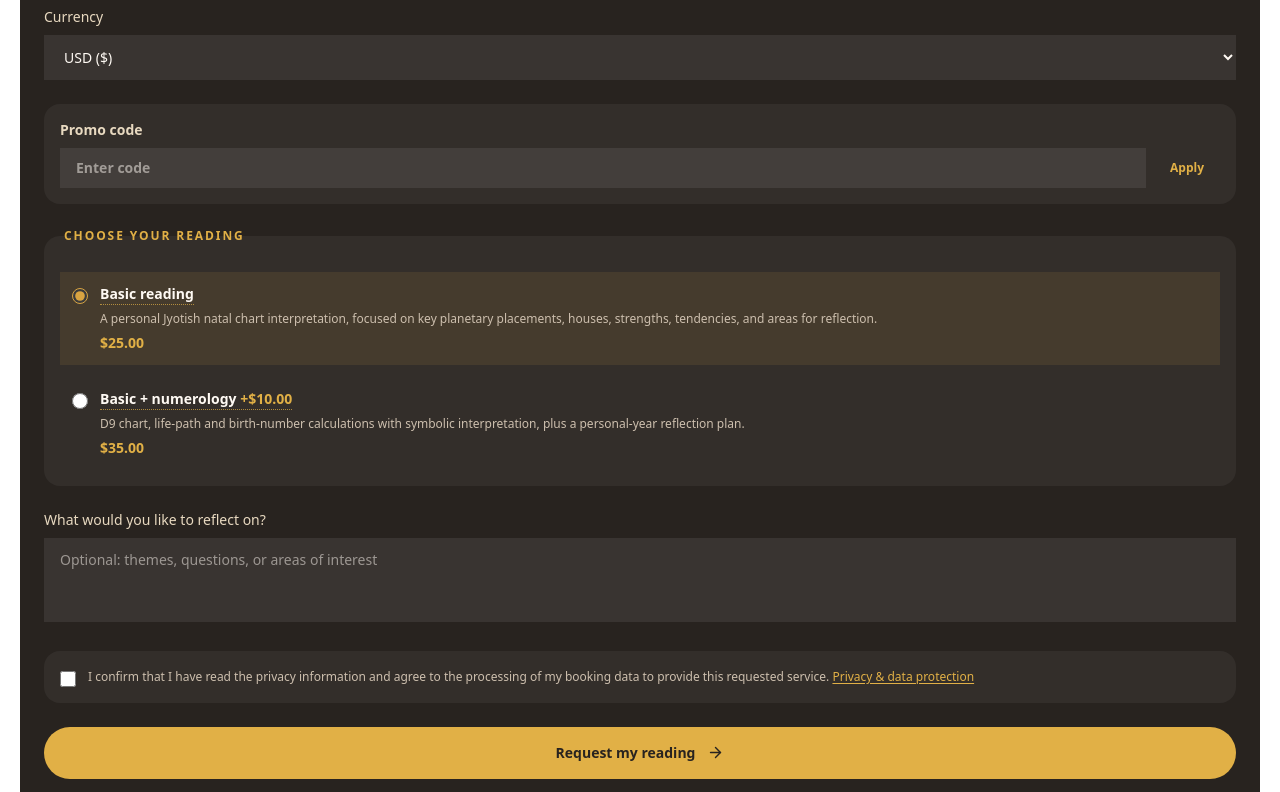
Test: Home booking payment UX › shows a detailed checkout price breakdown and keeps the total mathematically consistent
(page scrolled)
What coordinates should you click on to do the following:
click the radio button labelled "Basic + numerology"
I would click on:
 (80, 401)
Its box is [72, 393, 88, 409].
(page scrolled)
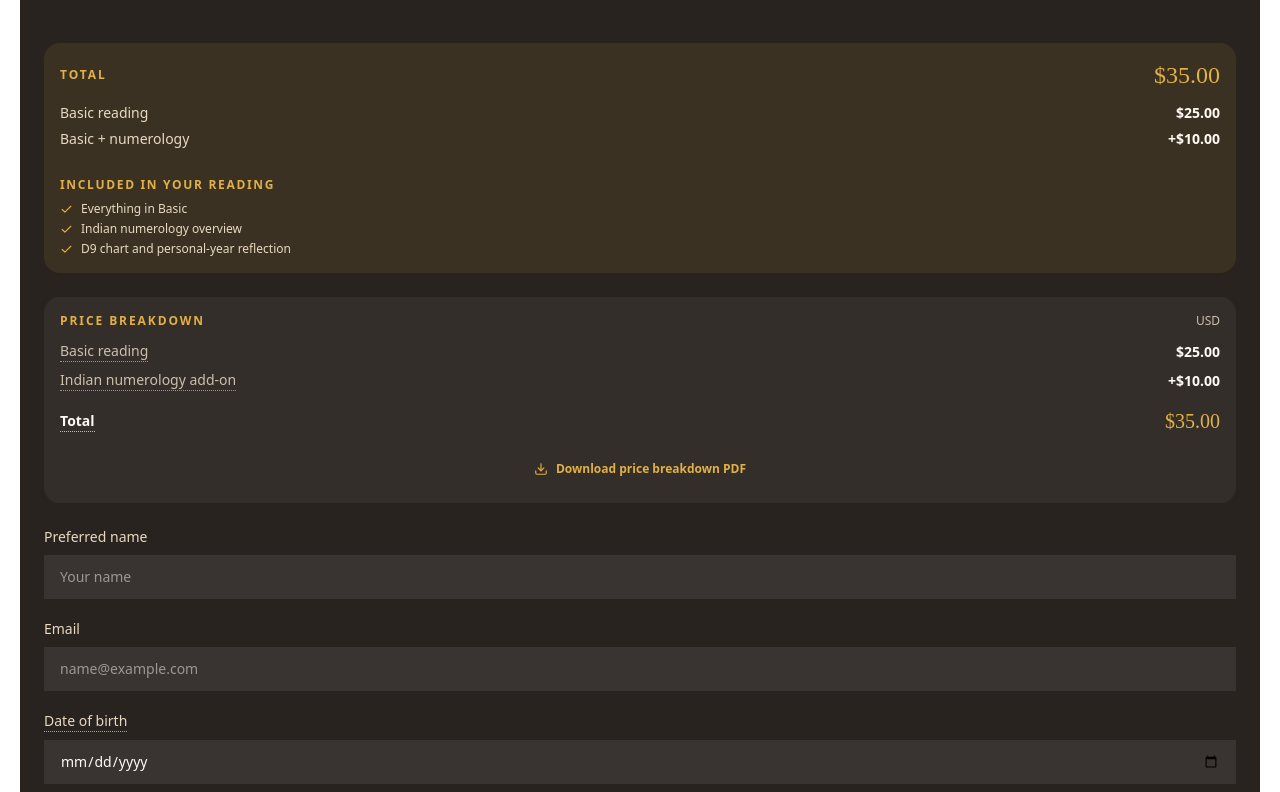
Expected: the element "Price breakdown" shows "Indian numerology add-on", [60, 370, 236, 391]
Expected: the element "Price breakdown" shows "+$10", [1168, 371, 1220, 390]
Expected: the element "Price breakdown" shows "$35", [1165, 410, 1220, 432]
